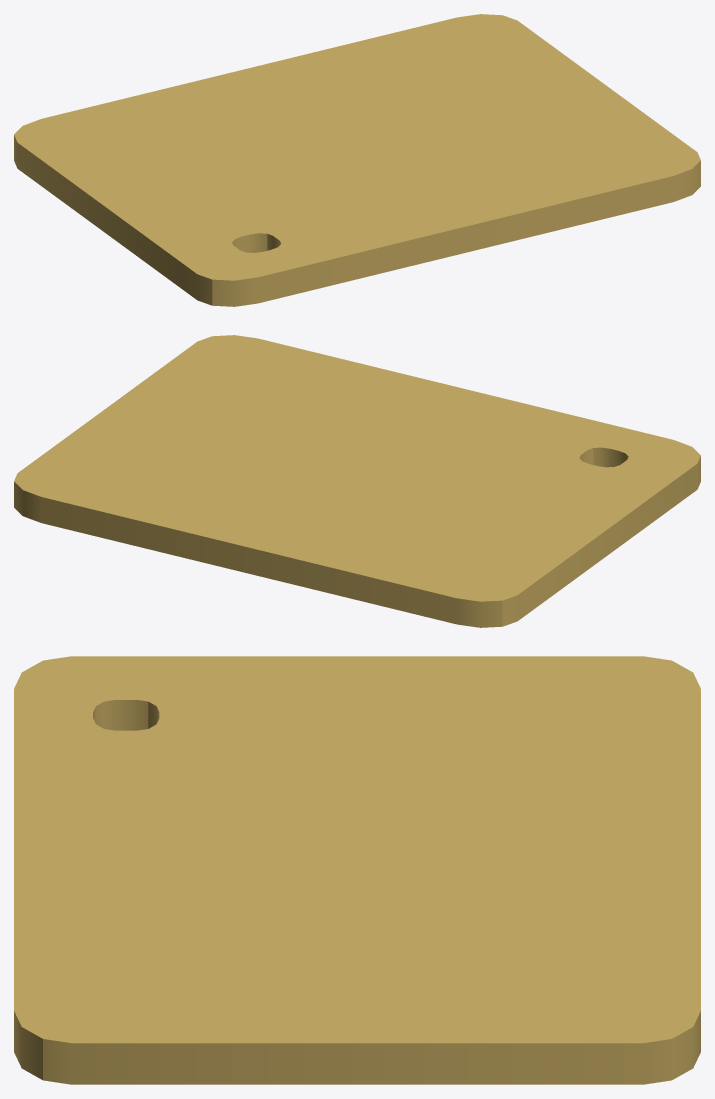
The model's file is SM_ChoppingBoard.fbx.
3 renders of one model, top to bottom at view 1: azimuth 30°, elevation 25°; view 2: azimuth 150°, elevation 25°; view 3: azimuth 270°, elevation 25°, orthographic. The views are drawn at different scales.
Visible parts, largest first — view 1: SM_ChoppingBoard; view 2: SM_ChoppingBoard; view 3: SM_ChoppingBoard.
Part boxes in pixels (<box>): SM_ChoppingBoard: <box>14,14,700,306</box>; SM_ChoppingBoard: <box>14,335,700,627</box>; SM_ChoppingBoard: <box>14,656,700,1084</box>.
Size of the model in its own units: 40 by 2 by 30.
